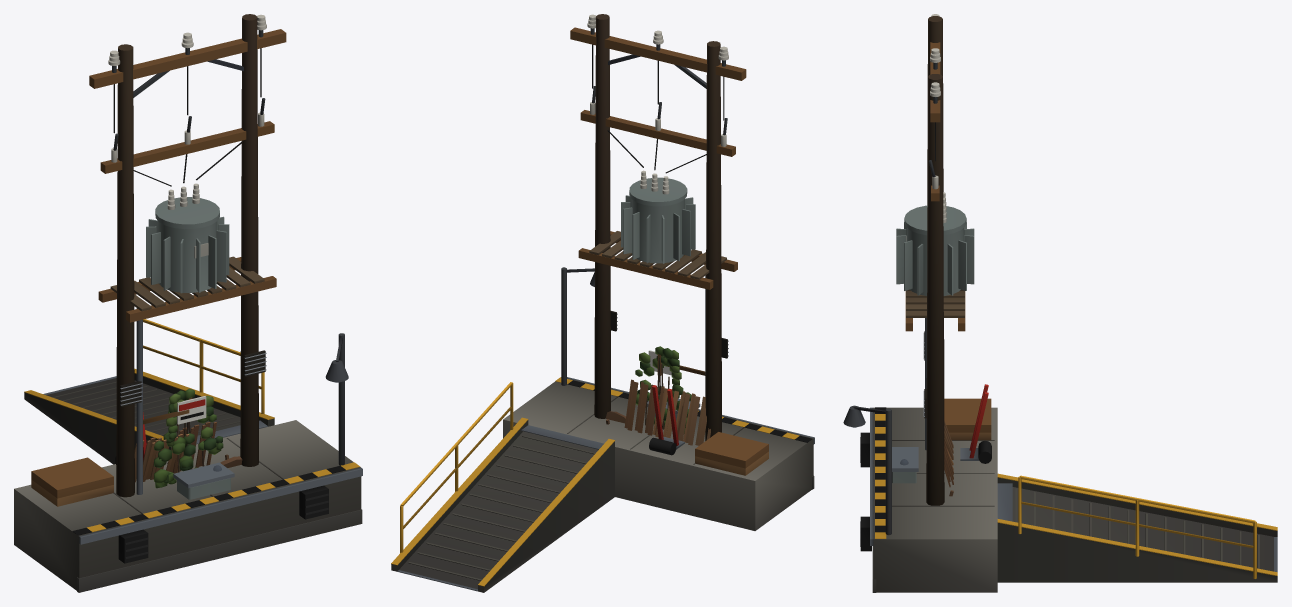
Rendered from yard.glb.
3 views of the same model, side by side, from view 1: azimuth 30°, elevation 25°; view 2: azimuth 150°, elevation 25°; view 3: azimuth 270°, elevation 25° (orthographic). The views are drawn at different scales.
Visible parts, largest first — view 1: site_loading_dock_mesh, site_transformer_mesh, xf_tank, site_ivy_mesh, site_rust_heap_mesh; view 2: site_loading_dock_mesh, site_transformer_mesh, xf_tank, site_rust_heap_mesh, site_ivy_mesh; view 3: site_loading_dock_mesh, site_transformer_mesh, xf_tank.
Part boxes in pixels (left/top/right/bottom): site_loading_dock_mesh: left=14, top=319, right=362, bottom=592; site_transformer_mesh: left=89, top=14, right=286, bottom=499; xf_tank: left=111, top=48, right=265, bottom=293; site_ivy_mesh: left=154, top=388, right=223, bottom=488; site_rust_heap_mesh: left=134, top=422, right=242, bottom=482; site_loading_dock_mesh: left=391, top=267, right=814, bottom=592; site_transformer_mesh: left=570, top=14, right=746, bottom=440; xf_tank: left=590, top=44, right=727, bottom=263; site_rust_heap_mesh: left=605, top=379, right=710, bottom=445; site_ivy_mesh: left=635, top=346, right=691, bottom=433; site_loading_dock_mesh: left=853, top=384, right=1277, bottom=592; site_transformer_mesh: left=892, top=14, right=965, bottom=505; xf_tank: left=896, top=122, right=974, bottom=295.
Size of the model in its own units: 5.02 by 8.6 by 6.98.
